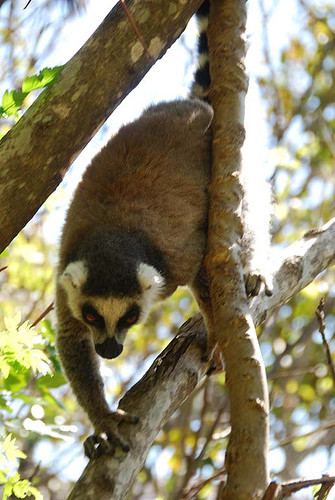cat: (52, 0, 216, 460)
